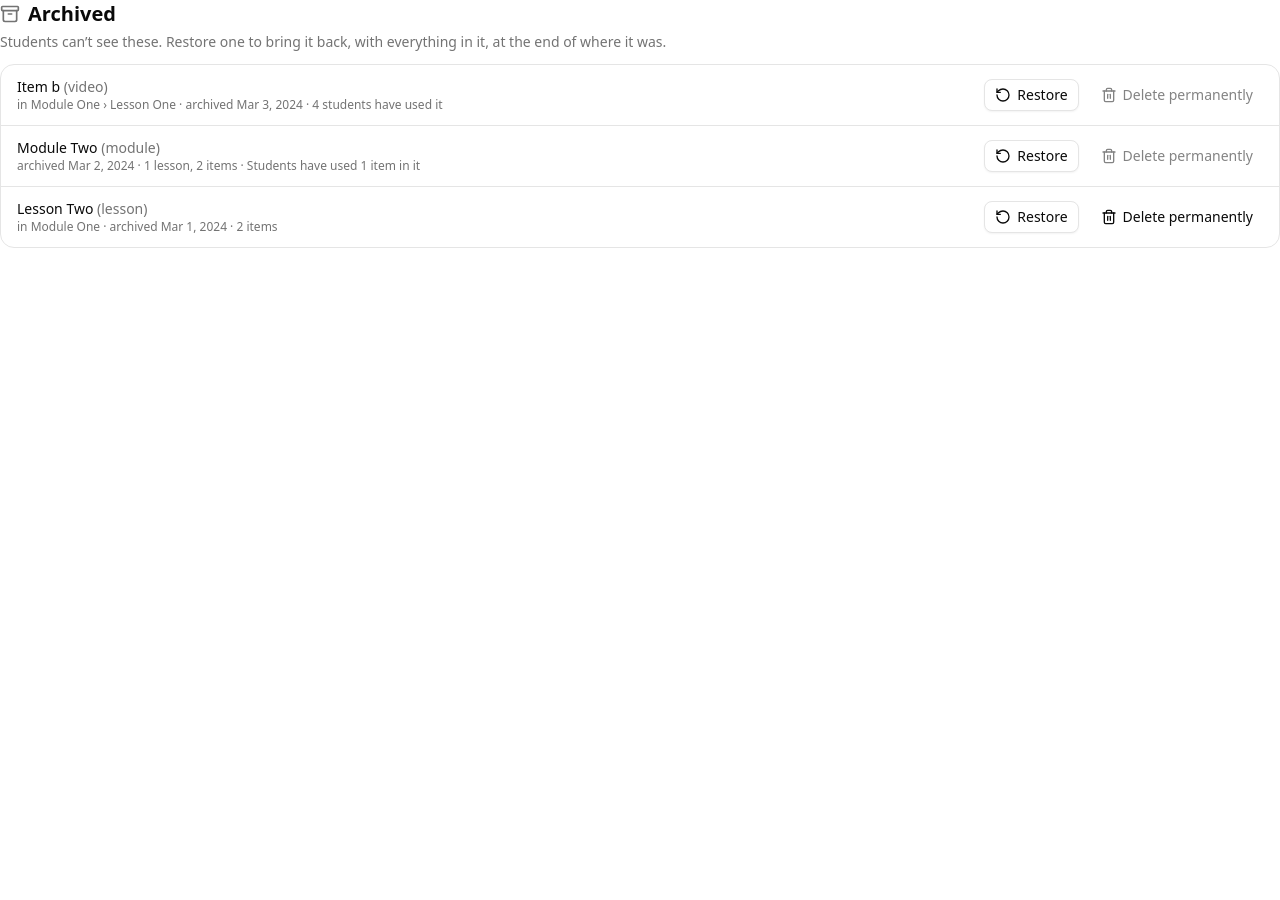
Test: ArchivedSection › Delete permanently › confirms, saying everything in it goes for good, then deletes it
The image size is (1280, 900).
What coordinates should you click on to do the following:
click the button with aria-label "Delete lesson Lesson Two permanently"
I would click on:
 (1177, 217)
Its box is x1=1090 y1=201 x2=1263 y2=233.
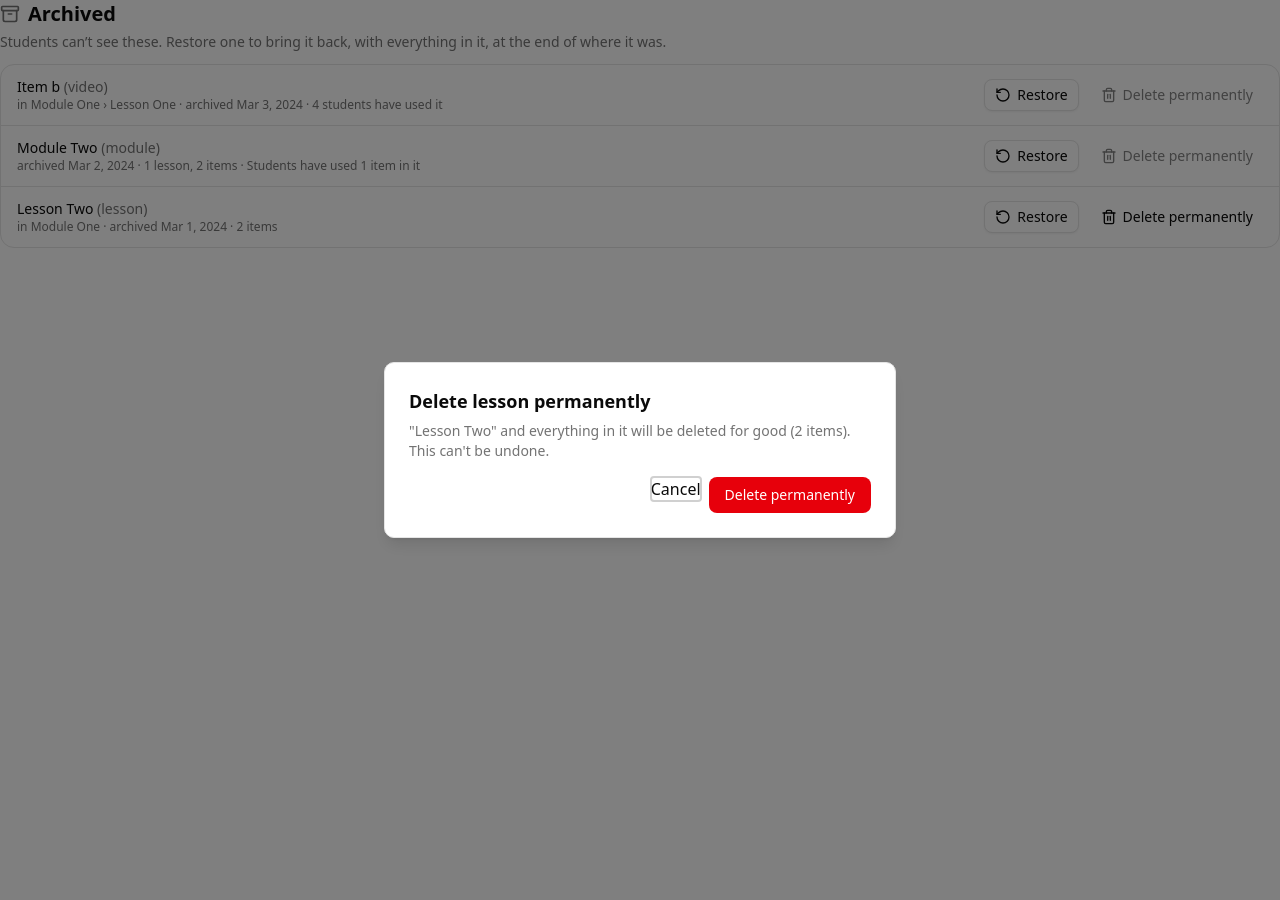
Expected: the dialog shows "\"Lesson Two\" and everything in it will be deleted for good (2 items). This can't be undone.", x1=384 y1=362 x2=896 y2=538
What coordinates should you click on to do the following:
click the button "Delete permanently"
I would click on:
 (790, 495)
Its box is x1=708 y1=477 x2=871 y2=513.
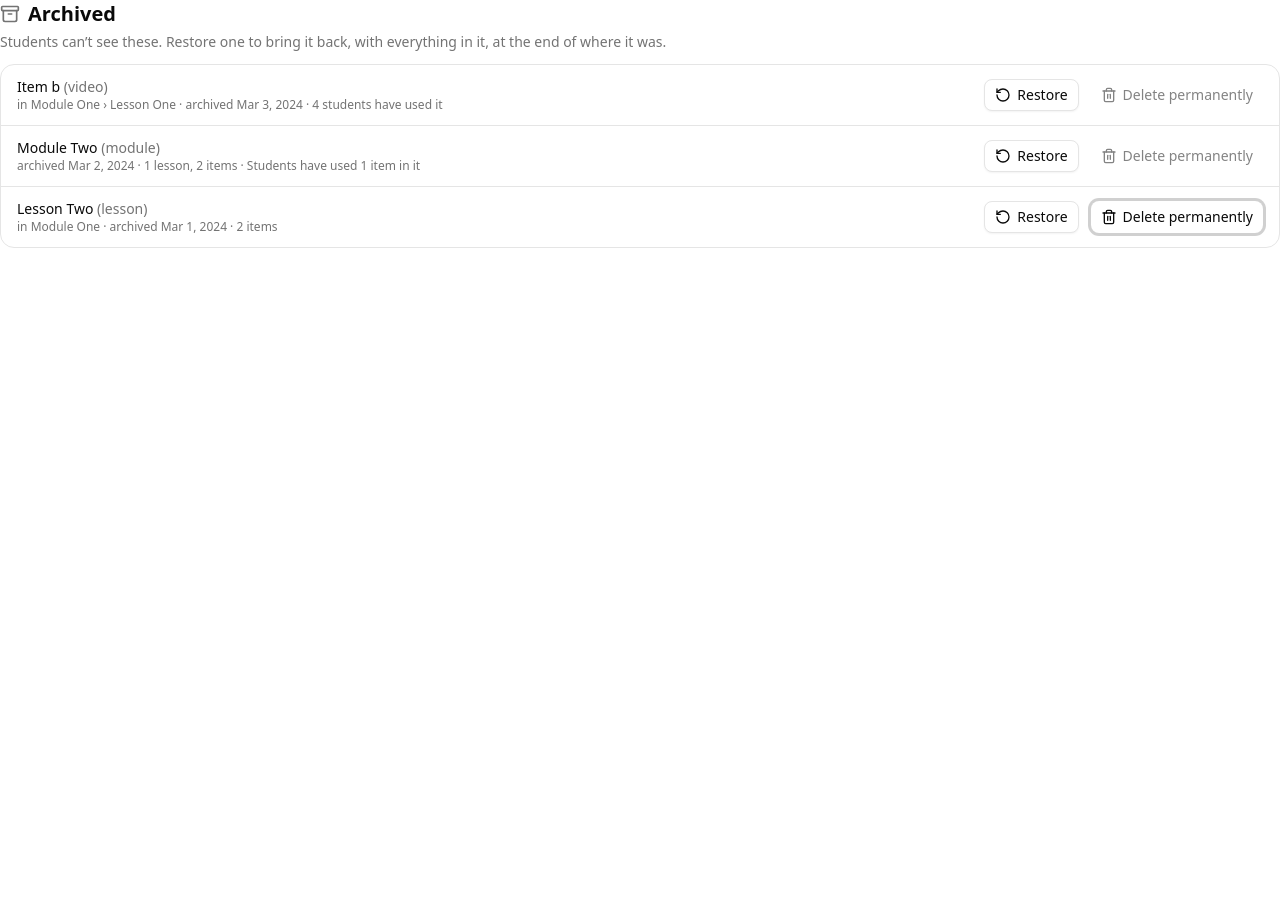
Expected: the dialog is gone
